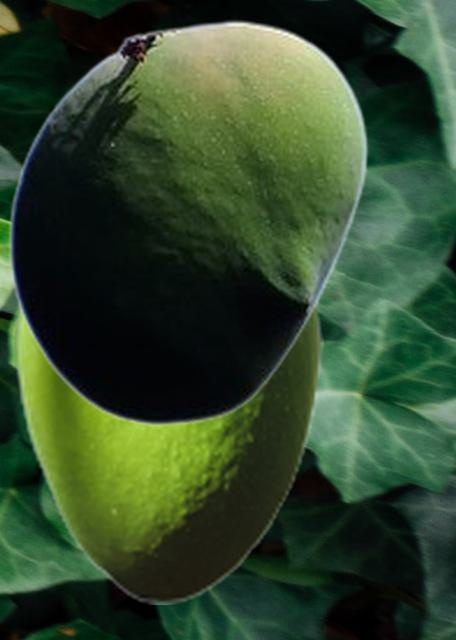green_mango: (7, 19, 369, 425), (14, 299, 322, 603)
